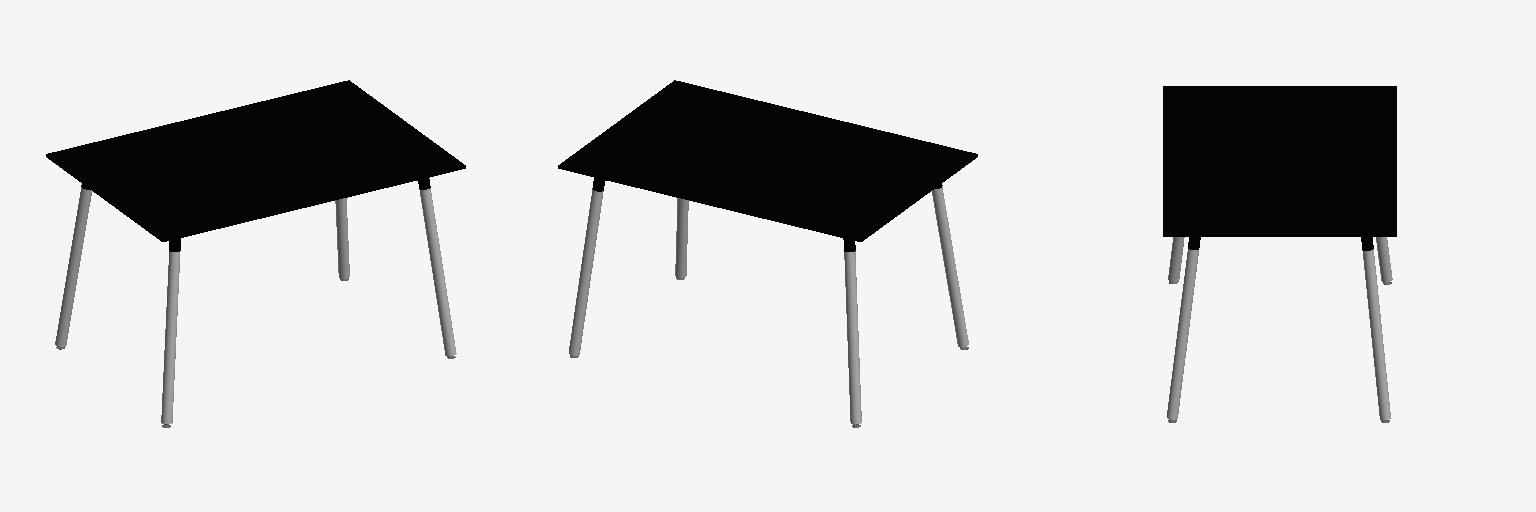
File: Langfanggreys.obj
3 renders of one model, left to right at view 1: azimuth 30°, elevation 25°; view 2: azimuth 150°, elevation 25°; view 3: azimuth 270°, elevation 25°, orthographic.
Parts seen in each view (by area): view 1: Cube_Cube.001, Cylinder; view 2: Cube_Cube.001, Cylinder; view 3: Cube_Cube.001, Cylinder.
Boxes of the visible parts, <box> form: Cube_Cube.001: <box>46,80,465,251</box>; Cylinder: <box>55,187,456,423</box>; Cube_Cube.001: <box>558,80,977,251</box>; Cylinder: <box>569,187,968,424</box>; Cube_Cube.001: <box>1163,86,1396,250</box>; Cylinder: <box>1167,237,1392,419</box>.
Bounding box in the file's own units: 2.4 × 1.46 × 1.6.